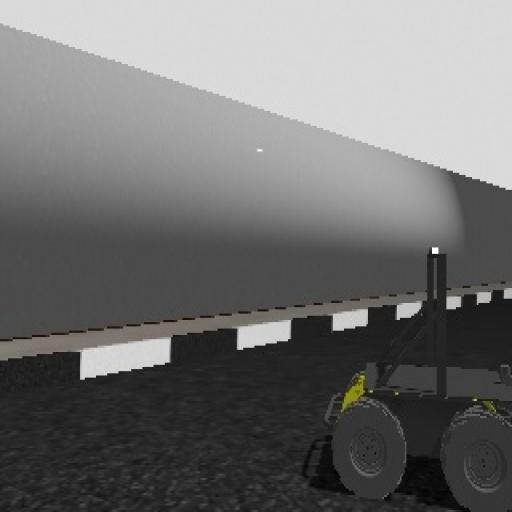huskya200: (309, 232, 512, 510)
